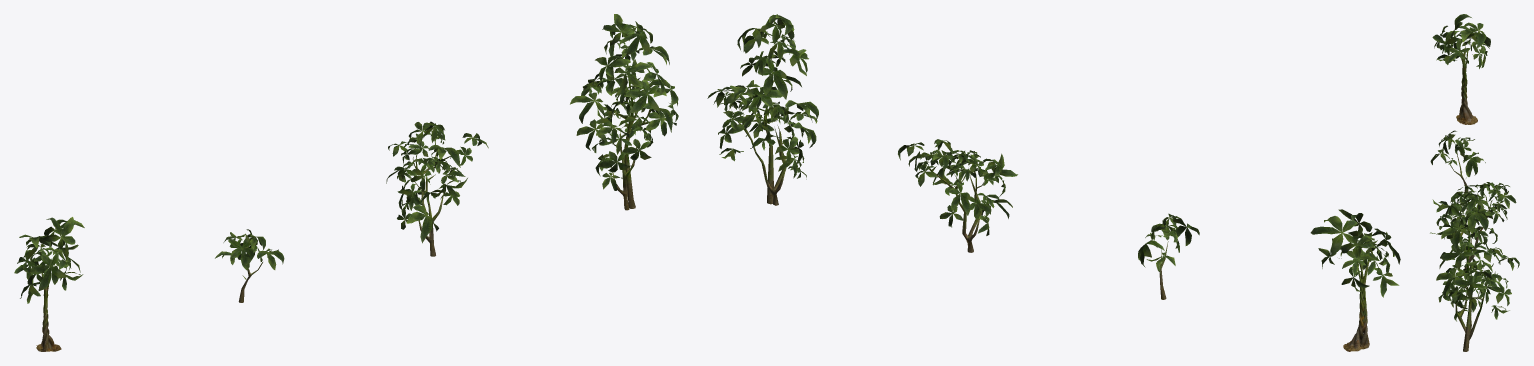
The model's file is pachira_aquatica_01.glb.
3 views of the same model, side by side, from view 1: azimuth 30°, elevation 25°; view 2: azimuth 150°, elevation 25°; view 3: azimuth 270°, elevation 25° (orthographic). The views are drawn at different scales.
Parts seen in each view (by area): view 1: pachira_aquatica_01_leaves_d, pachira_aquatica_01_leaves_c, pachira_aquatica_01_leaves_a, pachira_aquatica_01_leaves_b, pachira_aquatica_01_bark_d, pachira_aquatica_01_bark_a, pachira_aquatica_01_bark_c; view 2: pachira_aquatica_01_leaves_d, pachira_aquatica_01_leaves_c, pachira_aquatica_01_leaves_a, pachira_aquatica_01_leaves_b, pachira_aquatica_01_bark_d, pachira_aquatica_01_bark_a, pachira_aquatica_01_bark_c; view 3: pachira_aquatica_01_leaves_d, pachira_aquatica_01_leaves_c, pachira_aquatica_01_leaves_a, pachira_aquatica_01_leaves_b, pachira_aquatica_01_bark_d, pachira_aquatica_01_bark_a, pachira_aquatica_01_bark_c, pachira_aquatica_01_bark_b.
Boxes of the visible parts, x1,y1,x2,y2 form: pachira_aquatica_01_leaves_d: (570,14,678,190); pachira_aquatica_01_leaves_c: (386,121,488,243); pachira_aquatica_01_leaves_a: (14,217,84,303); pachira_aquatica_01_leaves_b: (215,229,284,279); pachira_aquatica_01_bark_d: (598,45,664,210); pachira_aquatica_01_bark_a: (36,265,61,351); pachira_aquatica_01_bark_c: (410,142,450,256); pachira_aquatica_01_leaves_d: (707,14,818,179); pachira_aquatica_01_leaves_c: (898,139,1017,235); pachira_aquatica_01_leaves_a: (1310,209,1400,297); pachira_aquatica_01_leaves_b: (1138,213,1199,274); pachira_aquatica_01_bark_d: (732,46,790,205); pachira_aquatica_01_bark_a: (1343,259,1369,351); pachira_aquatica_01_bark_c: (926,162,987,252); pachira_aquatica_01_leaves_d: (1430,191,1519,321); pachira_aquatica_01_leaves_c: (1432,182,1516,244); pachira_aquatica_01_leaves_a: (1432,14,1490,68); pachira_aquatica_01_leaves_b: (1430,130,1485,177); pachira_aquatica_01_bark_d: (1455,219,1493,351); pachira_aquatica_01_bark_a: (1456,48,1477,124); pachira_aquatica_01_bark_c: (1454,194,1497,268); pachira_aquatica_01_bark_b: (1450,151,1468,195).
Size of the model in its own units: 6.86 by 1.9 by 0.997.
2 materials, 2 textured.
